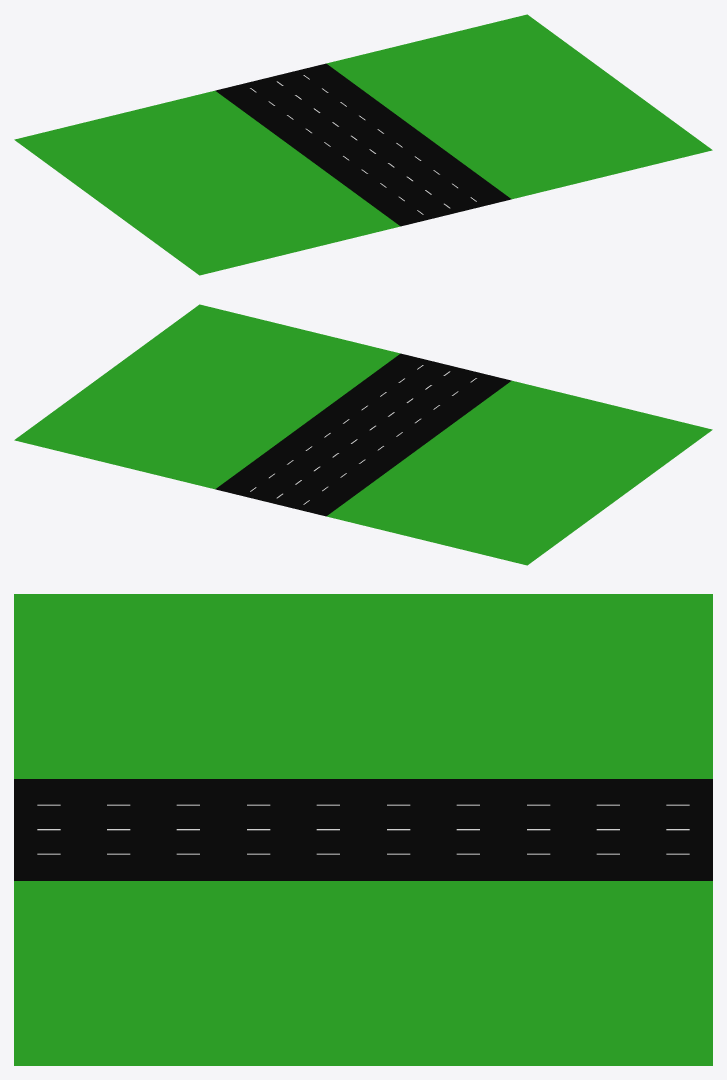
The model's file is DrogaWies1.fbx.
The picture shows the model from 3 angles, top to bottom: view 1: azimuth 30°, elevation 25°; view 2: azimuth 150°, elevation 25°; view 3: azimuth 270°, elevation 25°; orthographic projection. The views are drawn at different scales.
Visible parts, largest first — view 1: DrogaMiasto; view 2: DrogaMiasto; view 3: DrogaMiasto.
Part boxes in pixels (x1=…): DrogaMiasto: x1=14, y1=14, x2=712, y2=275; DrogaMiasto: x1=14, y1=304, x2=712, y2=565; DrogaMiasto: x1=14, y1=594, x2=712, y2=1065.
Bounding box in the file's own units: 4790 × 1.29 × 3000.
